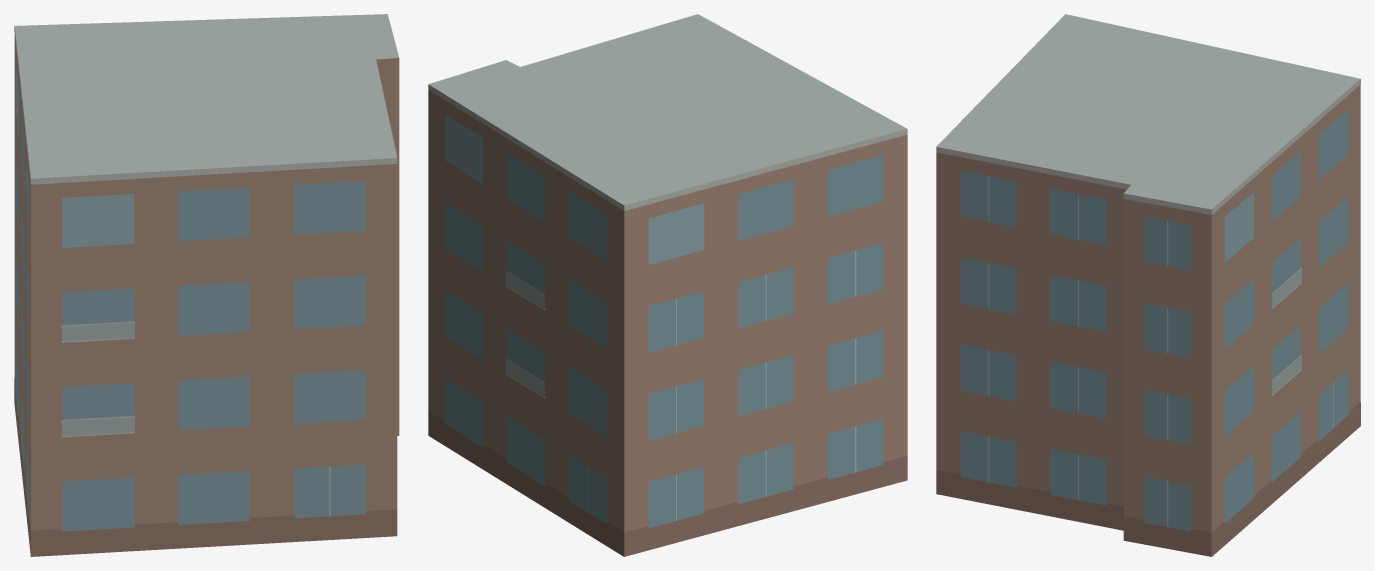
Rendered from survey-upis-32748937.glb.
The picture shows the model from 3 angles, left to right: view 1: azimuth 30°, elevation 25°; view 2: azimuth 150°, elevation 25°; view 3: azimuth 270°, elevation 25°; orthographic projection. The views are drawn at different scales.
Parts seen in each view (by area): view 1: survey-upis-32748937.tmp; view 2: survey-upis-32748937.tmp; view 3: survey-upis-32748937.tmp.
Boxes of the visible parts, x1,y1,x2,y2 form: survey-upis-32748937.tmp: (14, 14, 399, 556); survey-upis-32748937.tmp: (428, 14, 907, 556); survey-upis-32748937.tmp: (936, 14, 1360, 556).
Size of the model in its own units: 18.73 by 15.5 by 17.18.
